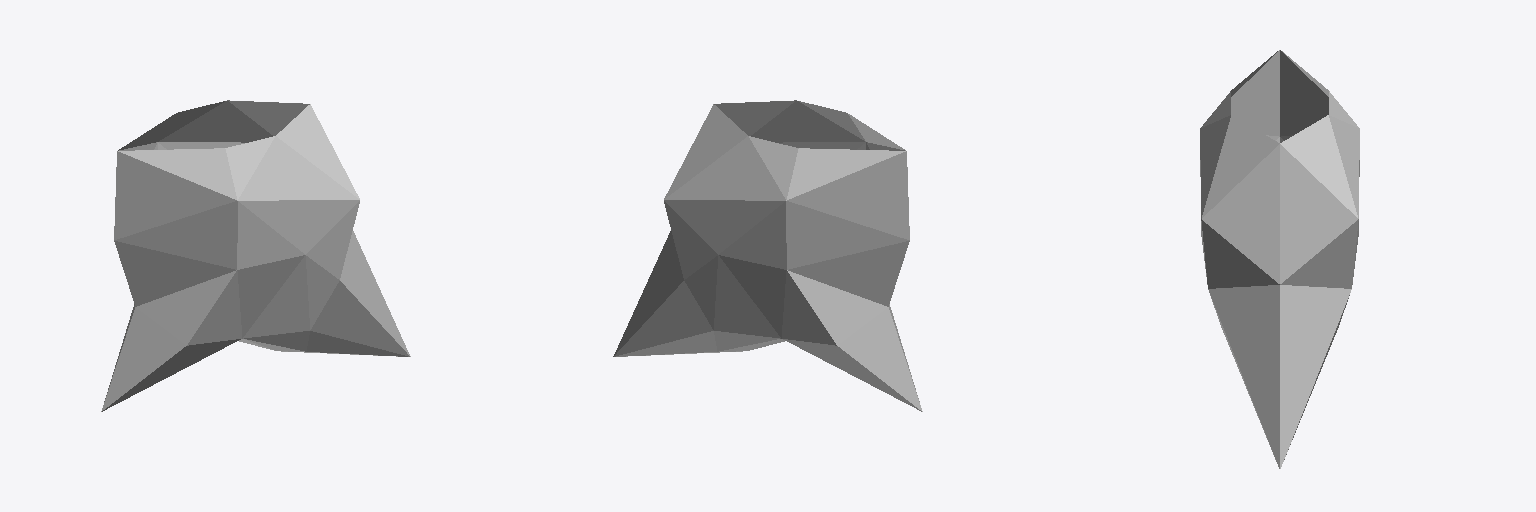
Rendered from rhodium_arm_gem2.obj.
The picture shows the model from 3 angles: view 1: azimuth 30°, elevation 25°; view 2: azimuth 150°, elevation 25°; view 3: azimuth 270°, elevation 25°; orthographic projection.
Parts seen in each view (by area): view 1: RhodiumArmGem2; view 2: RhodiumArmGem2; view 3: RhodiumArmGem2.
Boxes of the visible parts, x1=… form: RhodiumArmGem2: x1=101, y1=100, x2=410, y2=411; RhodiumArmGem2: x1=613, y1=100, x2=922, y2=411; RhodiumArmGem2: x1=1200, y1=50, x2=1359, y2=468.
Bounding box in the file's own units: 1.84 × 1.58 × 0.8241.